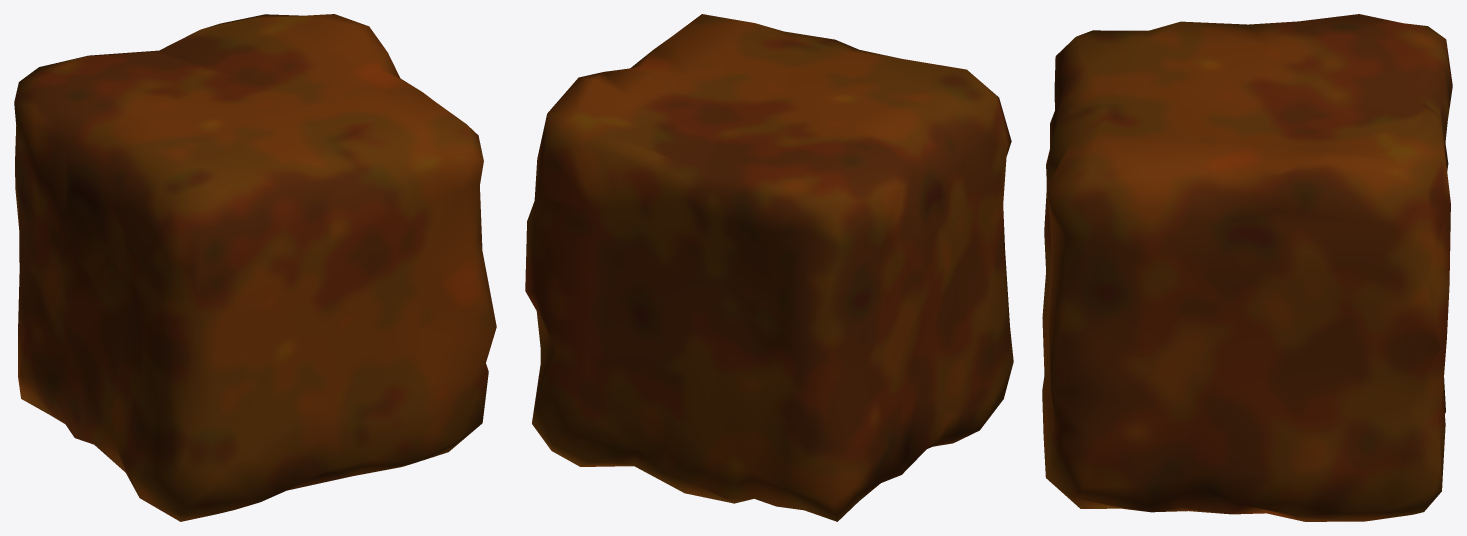
File: blocks_tuti.fbx
3 views of the same model, side by side, from view 1: azimuth 30°, elevation 25°; view 2: azimuth 150°, elevation 25°; view 3: azimuth 270°, elevation 25° (orthographic). The views are drawn at different scales.
Parts seen in each view (by area): view 1: tuti; view 2: tuti; view 3: tuti.
Boxes of the visible parts, x1,y1,x2,y2 form: tuti: [14, 14, 496, 521]; tuti: [525, 14, 1013, 521]; tuti: [1042, 14, 1452, 521].
Size of the model in its own units: 82.58 by 82.2 by 81.19.
